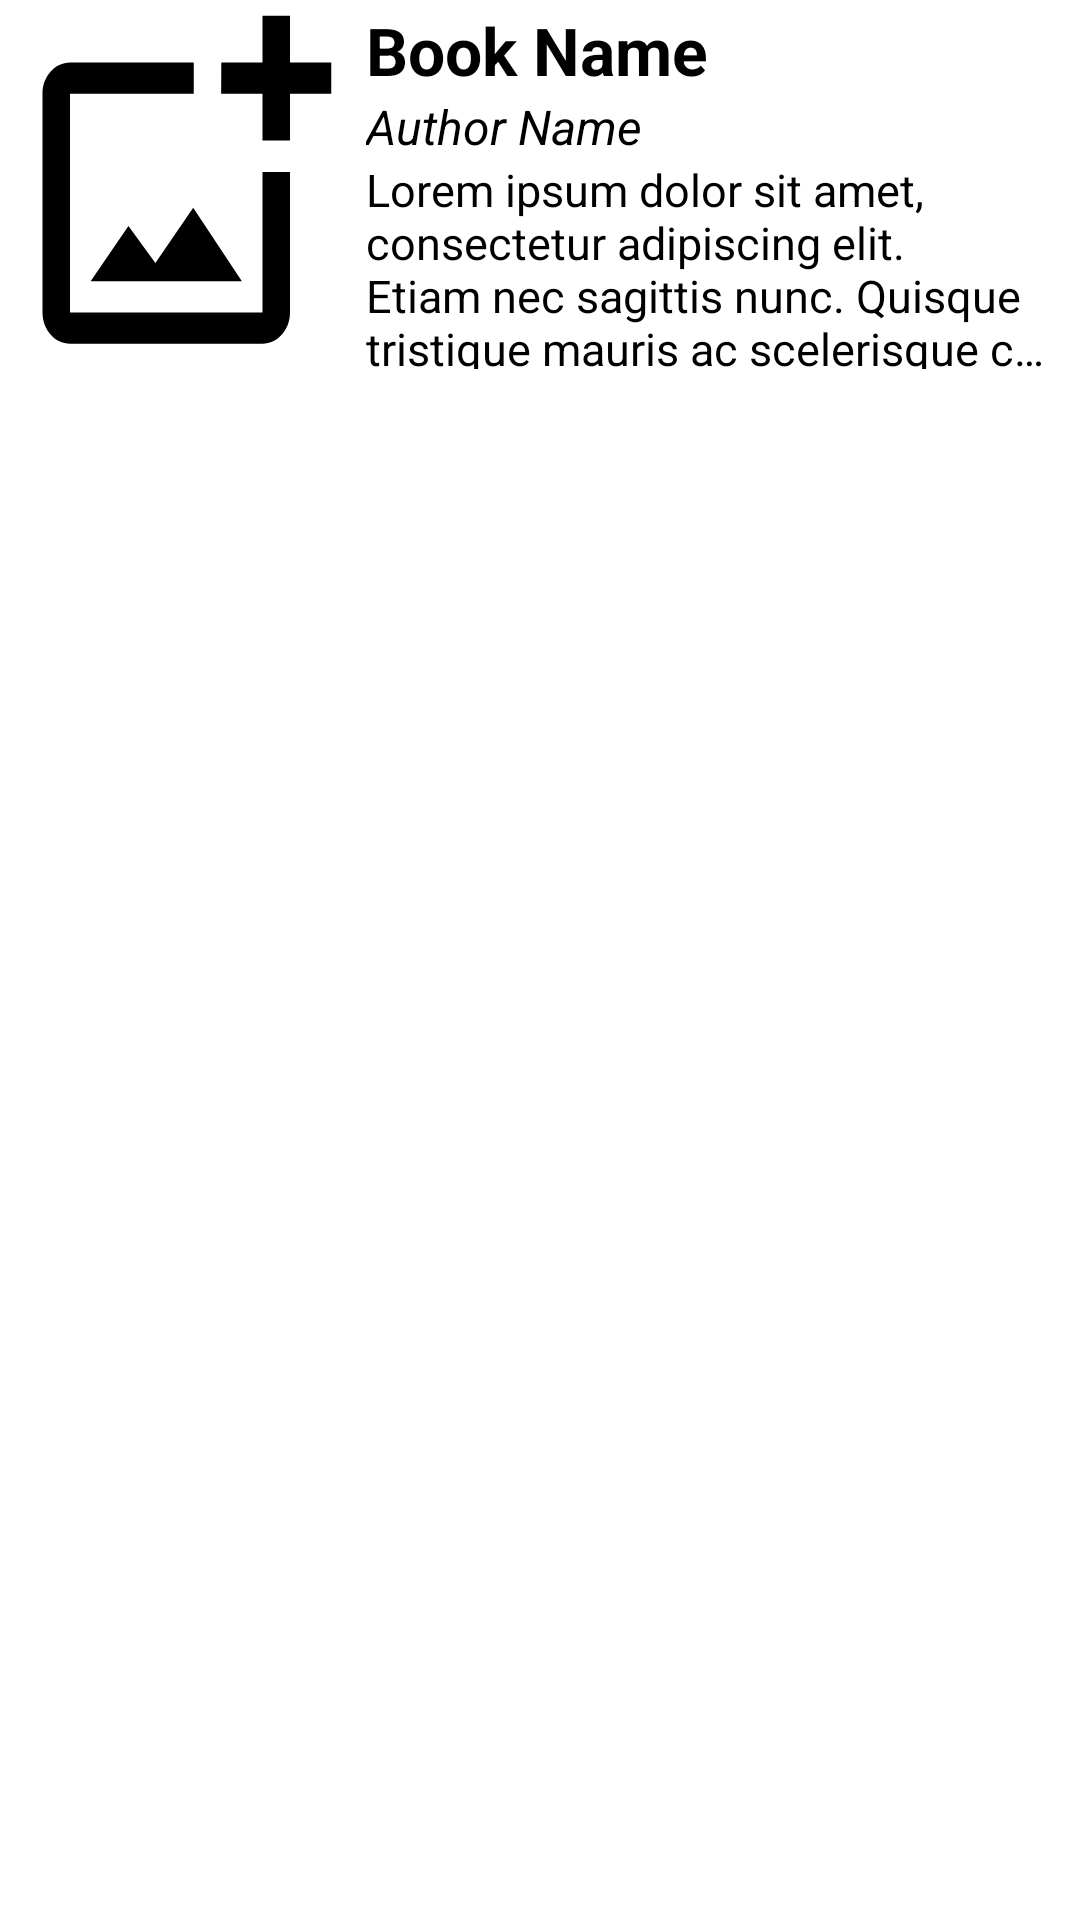

Point at icon controls on the screen. Image size 1080px x 1920px, points as [x,y].
add photo: [187,179]
